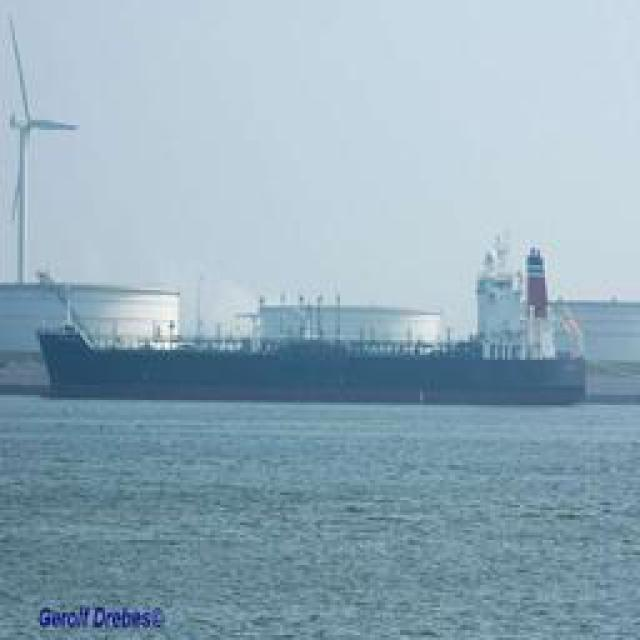Ship: (22, 271, 595, 406)
